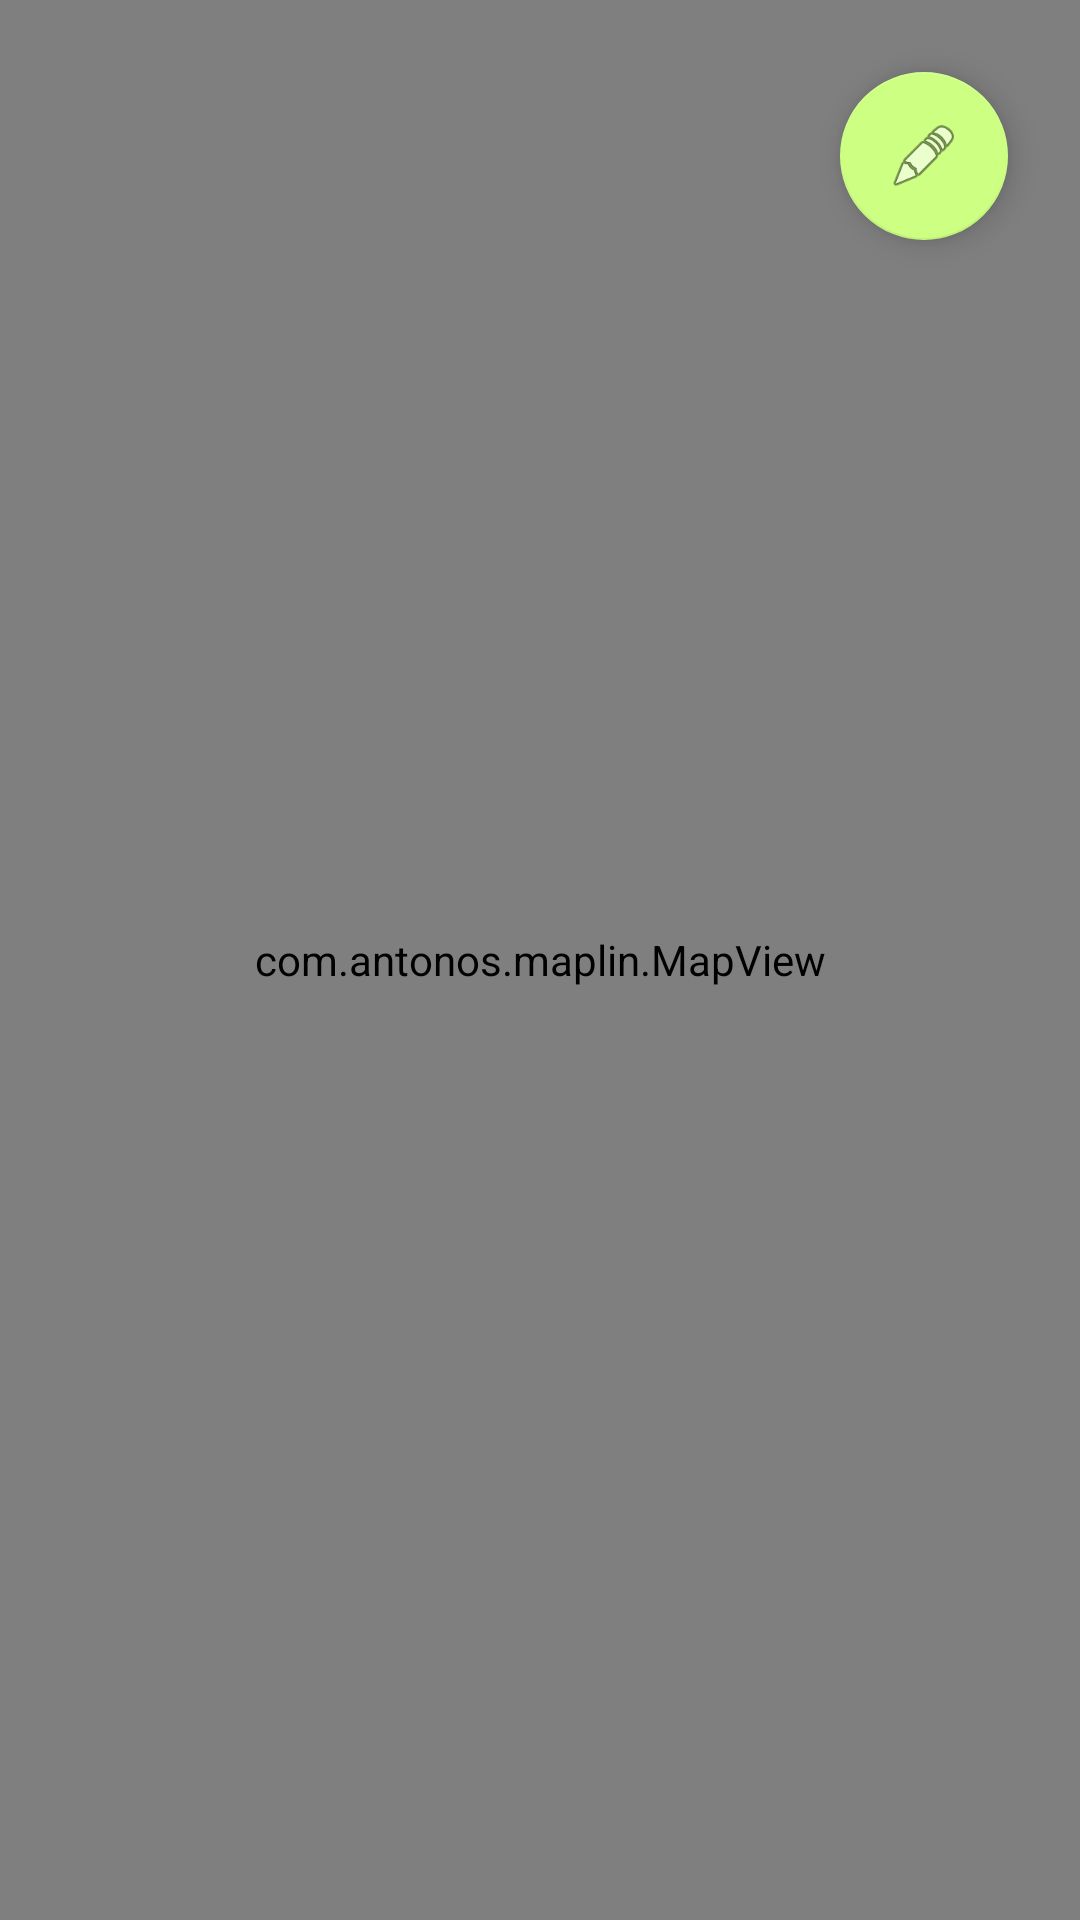

Where icons sit on this 1080x1920 app screen, as (x1, y1, x2, y2):
edit: (840, 72, 1008, 240)
